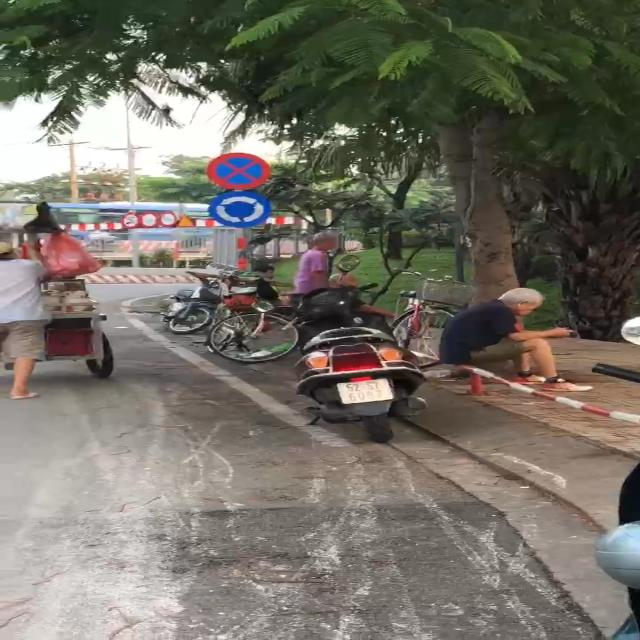Bien bao cam dung xe va do xe: (203, 149, 279, 193)
Bien bao noi giao nhau chay theo vong xuyen: (206, 191, 279, 229)
